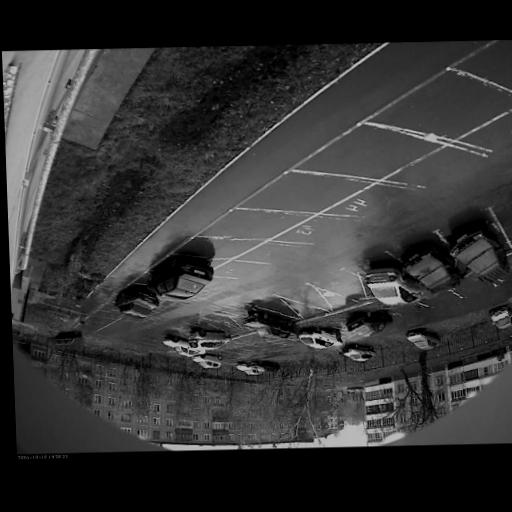busy: (448, 224, 511, 291), (148, 251, 219, 303), (401, 238, 462, 292), (359, 261, 425, 308), (239, 305, 300, 341), (342, 307, 397, 341), (111, 286, 163, 321), (293, 327, 346, 354), (186, 325, 232, 351), (156, 333, 195, 358), (401, 328, 441, 352), (337, 340, 377, 364), (188, 351, 225, 372), (235, 360, 278, 378), (50, 327, 85, 349), (486, 305, 512, 332)
free: (427, 85, 475, 125), (349, 132, 399, 170), (278, 175, 326, 208), (224, 210, 270, 243), (203, 236, 235, 264), (303, 285, 332, 311), (458, 277, 486, 298), (338, 280, 367, 299), (396, 303, 423, 322), (219, 316, 245, 335), (427, 290, 455, 307)
